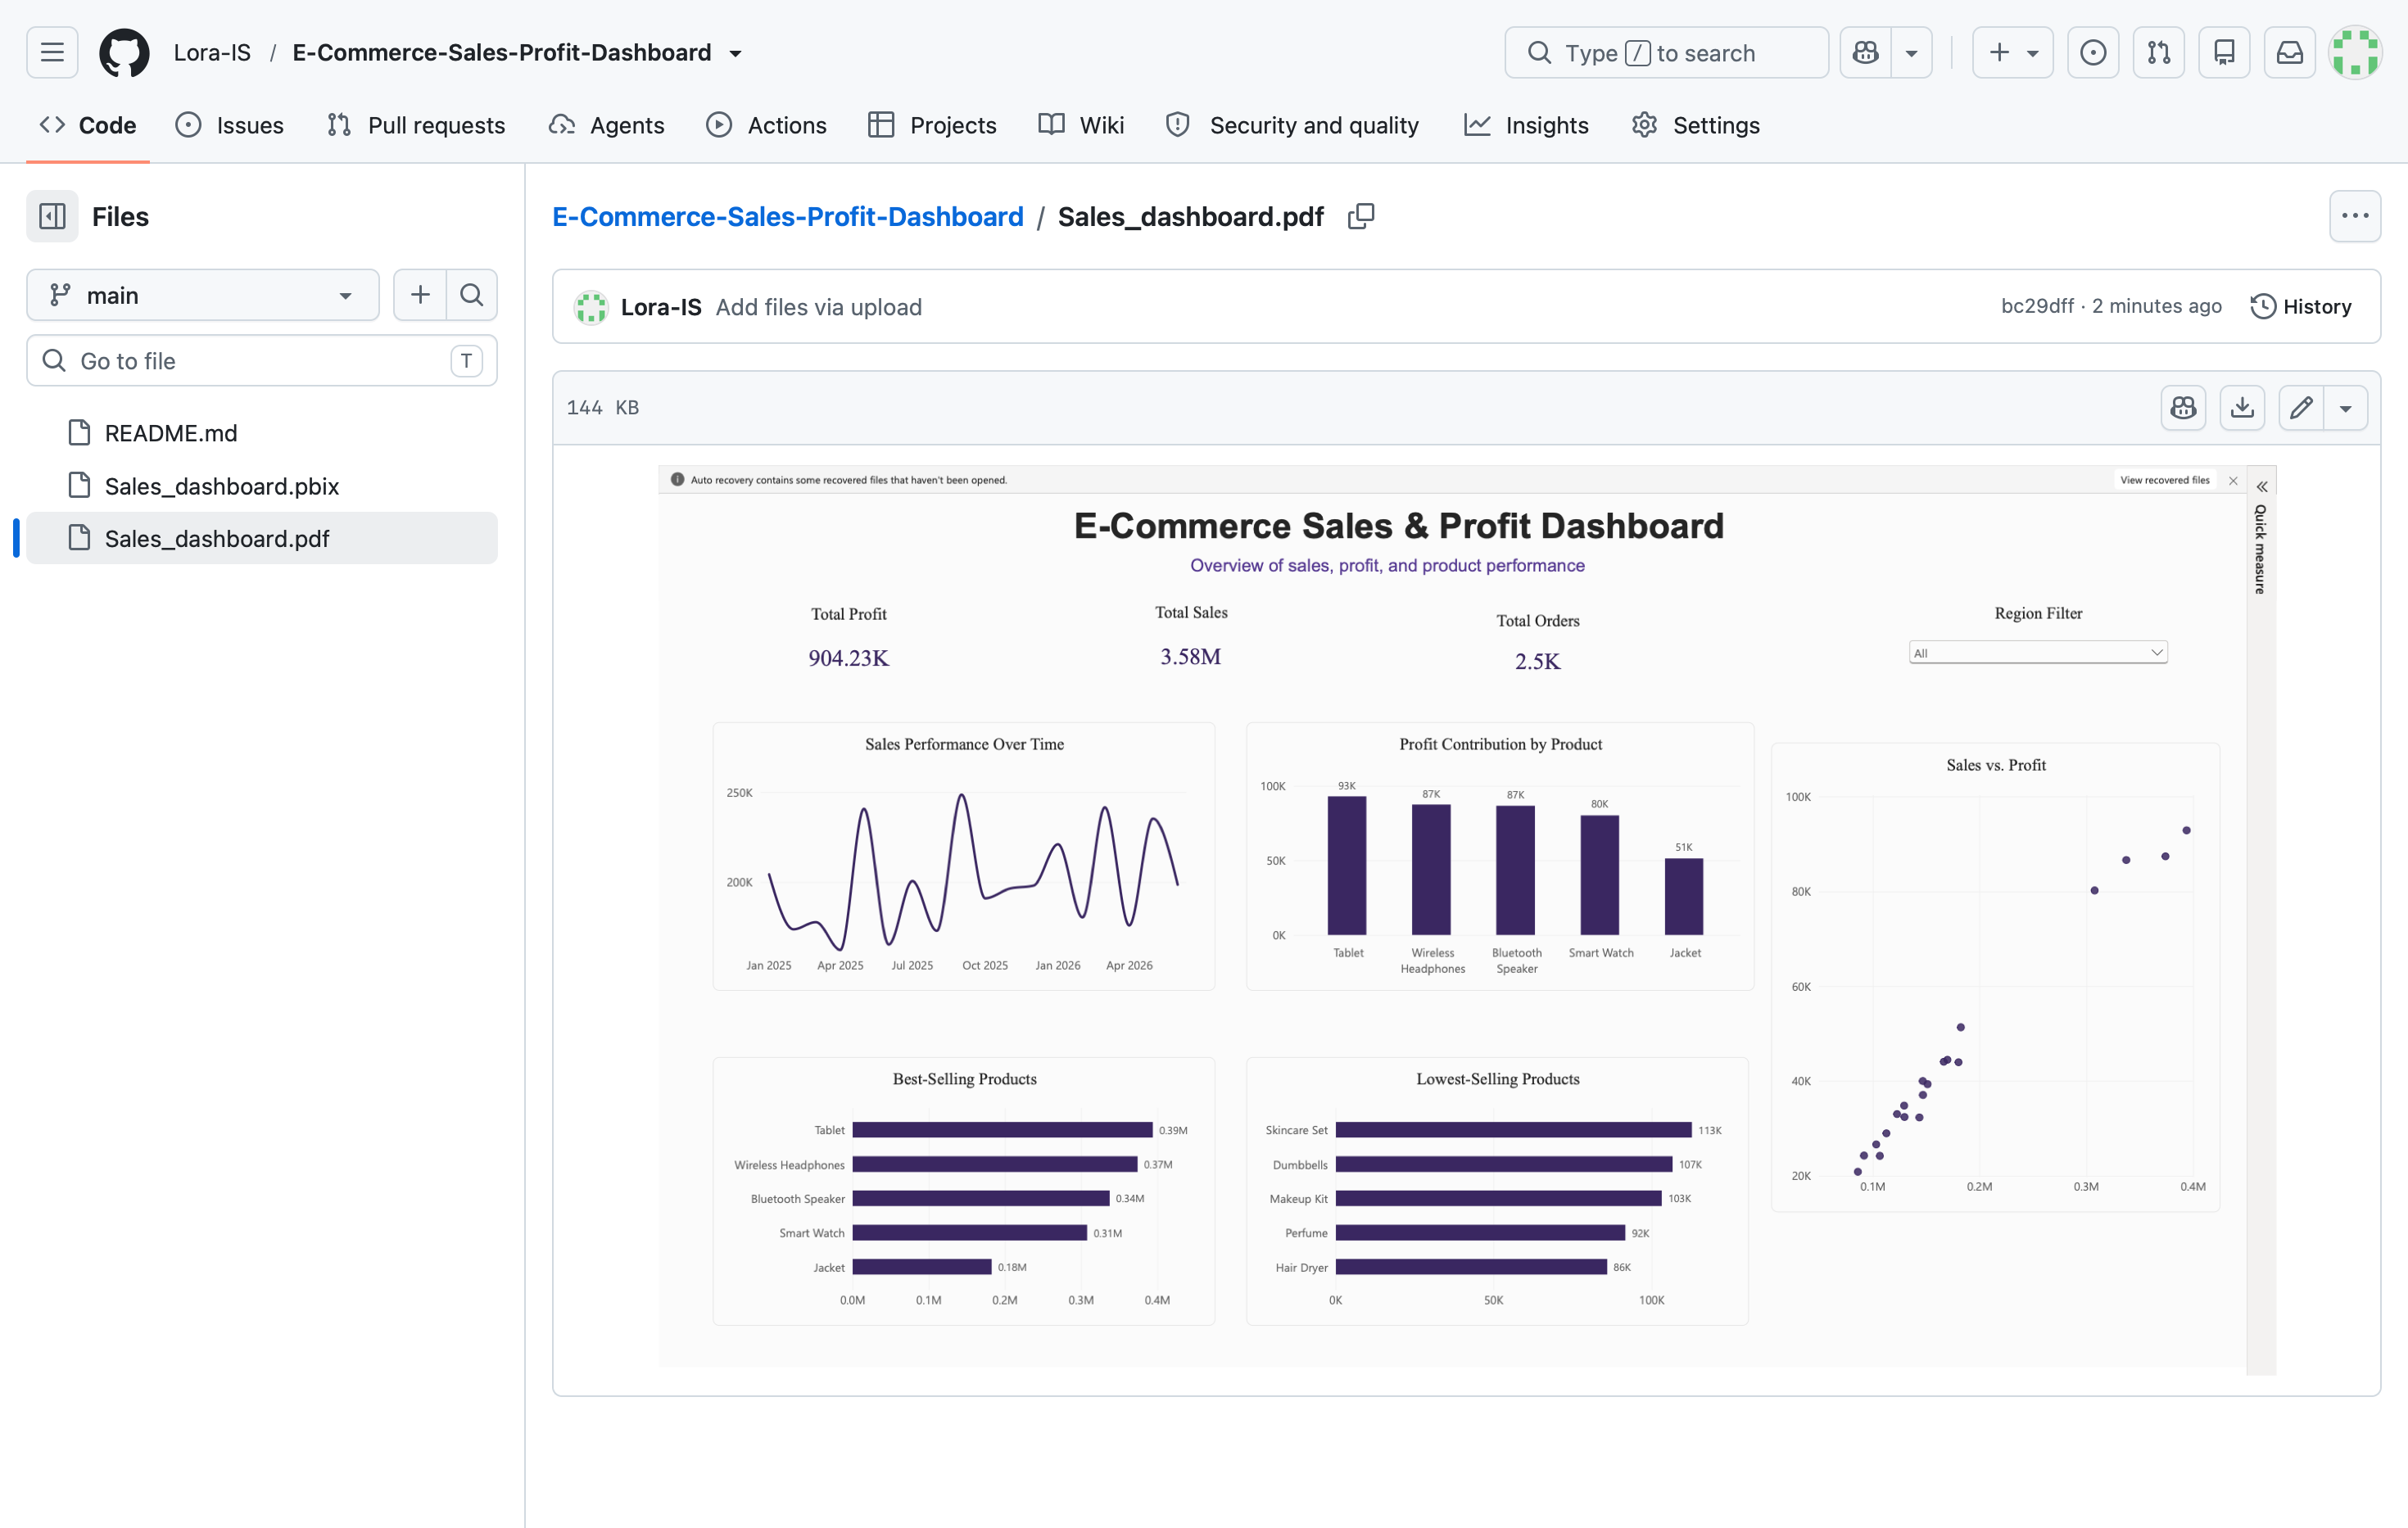

What the dashboard file says about the page in this screenshot:
{"tool":"powerbi","page":{"name":"Page 1","canvas":[1920,1080],"ordinal":0},"visuals":[{"type":"cardVisual","title":"Total Profit","fields":{"Data":["Sum(Ecommerce_Sales_Analytics_Challenge.Profit)"]},"box":[65,157.5,330.3,90.9],"z":0},{"type":"cardVisual","title":"Total Sales","fields":{"Data":["Sum(Ecommerce_Sales_Analytics_Challenge.Sales)"]},"box":[480,156.2,327.5,91.2],"z":1000},{"type":"cardVisual","title":"Total Orders","fields":{"Data":["Count(Ecommerce_Sales_Analytics_Challenge.Order ID)"]},"box":[901.2,166.2,325,82.5],"z":2000},{"type":"lineChart","title":"Sales Performance Over Time","fields":{"Category":["Ecommerce_Sales_Analytics_Challenge.Order Date.Variation.Date Hierarchy.Year","Ecommerce_Sales_Analytics_Challenge.Order Date.Variation.Date Hierarchy.Month"],"Y":["Sum(Ecommerce_Sales_Analytics_Challenge.Sales)"]},"box":[65,300,607.5,325],"z":3000},{"type":"clusteredColumnChart","title":"Profit Contribution by Product","fields":{"Category":["Ecommerce_Sales_Analytics_Challenge.Product"],"Y":["Sum(Ecommerce_Sales_Analytics_Challenge.Profit)"]},"box":[710,300,615,325],"z":4000},{"type":"barChart","title":"Best-Selling Products","fields":{"Category":["Ecommerce_Sales_Analytics_Challenge.Product"],"Y":["Sum(Ecommerce_Sales_Analytics_Challenge.Sales)"]},"box":[65,705,607.5,325],"z":5000},{"type":"barChart","title":"Lowest-Selling Products","fields":{"Category":["Ecommerce_Sales_Analytics_Challenge.Product"],"Y":["Sum(Ecommerce_Sales_Analytics_Challenge.Sales)"]},"box":[710,705,607.5,325],"z":6000},{"type":"slicer","title":"Region Filter","fields":{"Values":["Ecommerce_Sales_Analytics_Challenge.Region"]},"box":[1507.1,157.1,323.3,97.8],"z":6001},{"type":"scatterChart","title":"Sales vs. Profit","fields":{"Category":["Ecommerce_Sales_Analytics_Challenge.Product"],"X":["Sum(Ecommerce_Sales_Analytics_Challenge.Sales)"],"Y":["Sum(Ecommerce_Sales_Analytics_Challenge.Profit)"]},"box":[1345,325,542.5,567.5],"z":6002},{"type":"textbox","box":[65,0,330,150],"z":6003},{"type":"textbox","box":[284,38,1224,150],"z":6004},{"type":"textbox","box":[255,97.5,1252.5,150],"z":6005}]}

Visuals, with their boxes on the page's 1920x1080 design canvas (x1, y1, x2, y2). These are canvas units, not pixel positions in the 2408x1528 screenshot, which may show the page scaled, cropped or inside an application window:
"Total Profit" cardVisual: detection(65, 158, 395, 248)
"Total Sales" cardVisual: detection(480, 156, 808, 247)
"Total Orders" cardVisual: detection(901, 166, 1226, 249)
"Sales Performance Over Time" lineChart: detection(65, 300, 672, 625)
"Profit Contribution by Product" clusteredColumnChart: detection(710, 300, 1325, 625)
"Best-Selling Products" barChart: detection(65, 705, 672, 1030)
"Lowest-Selling Products" barChart: detection(710, 705, 1318, 1030)
"Region Filter" slicer: detection(1507, 157, 1830, 255)
"Sales vs. Profit" scatterChart: detection(1345, 325, 1888, 892)
textbox: detection(65, 0, 395, 150)
textbox: detection(284, 38, 1508, 188)
textbox: detection(255, 98, 1508, 248)
